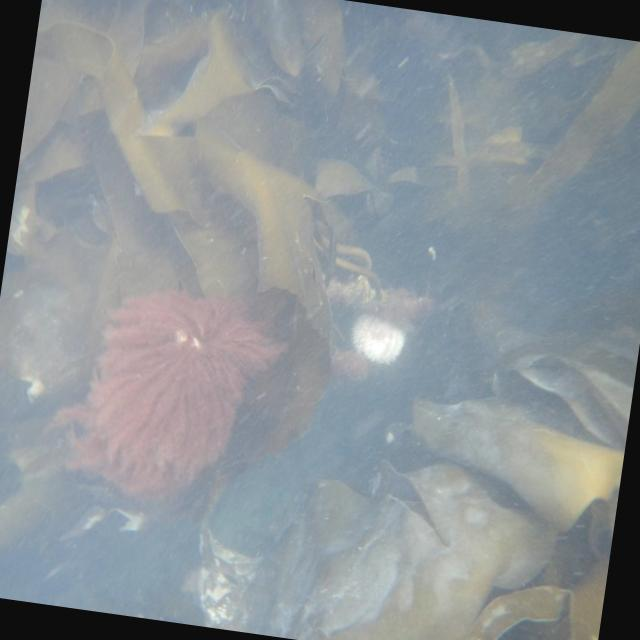Deniz Kestanesi: (348, 310, 408, 368)
